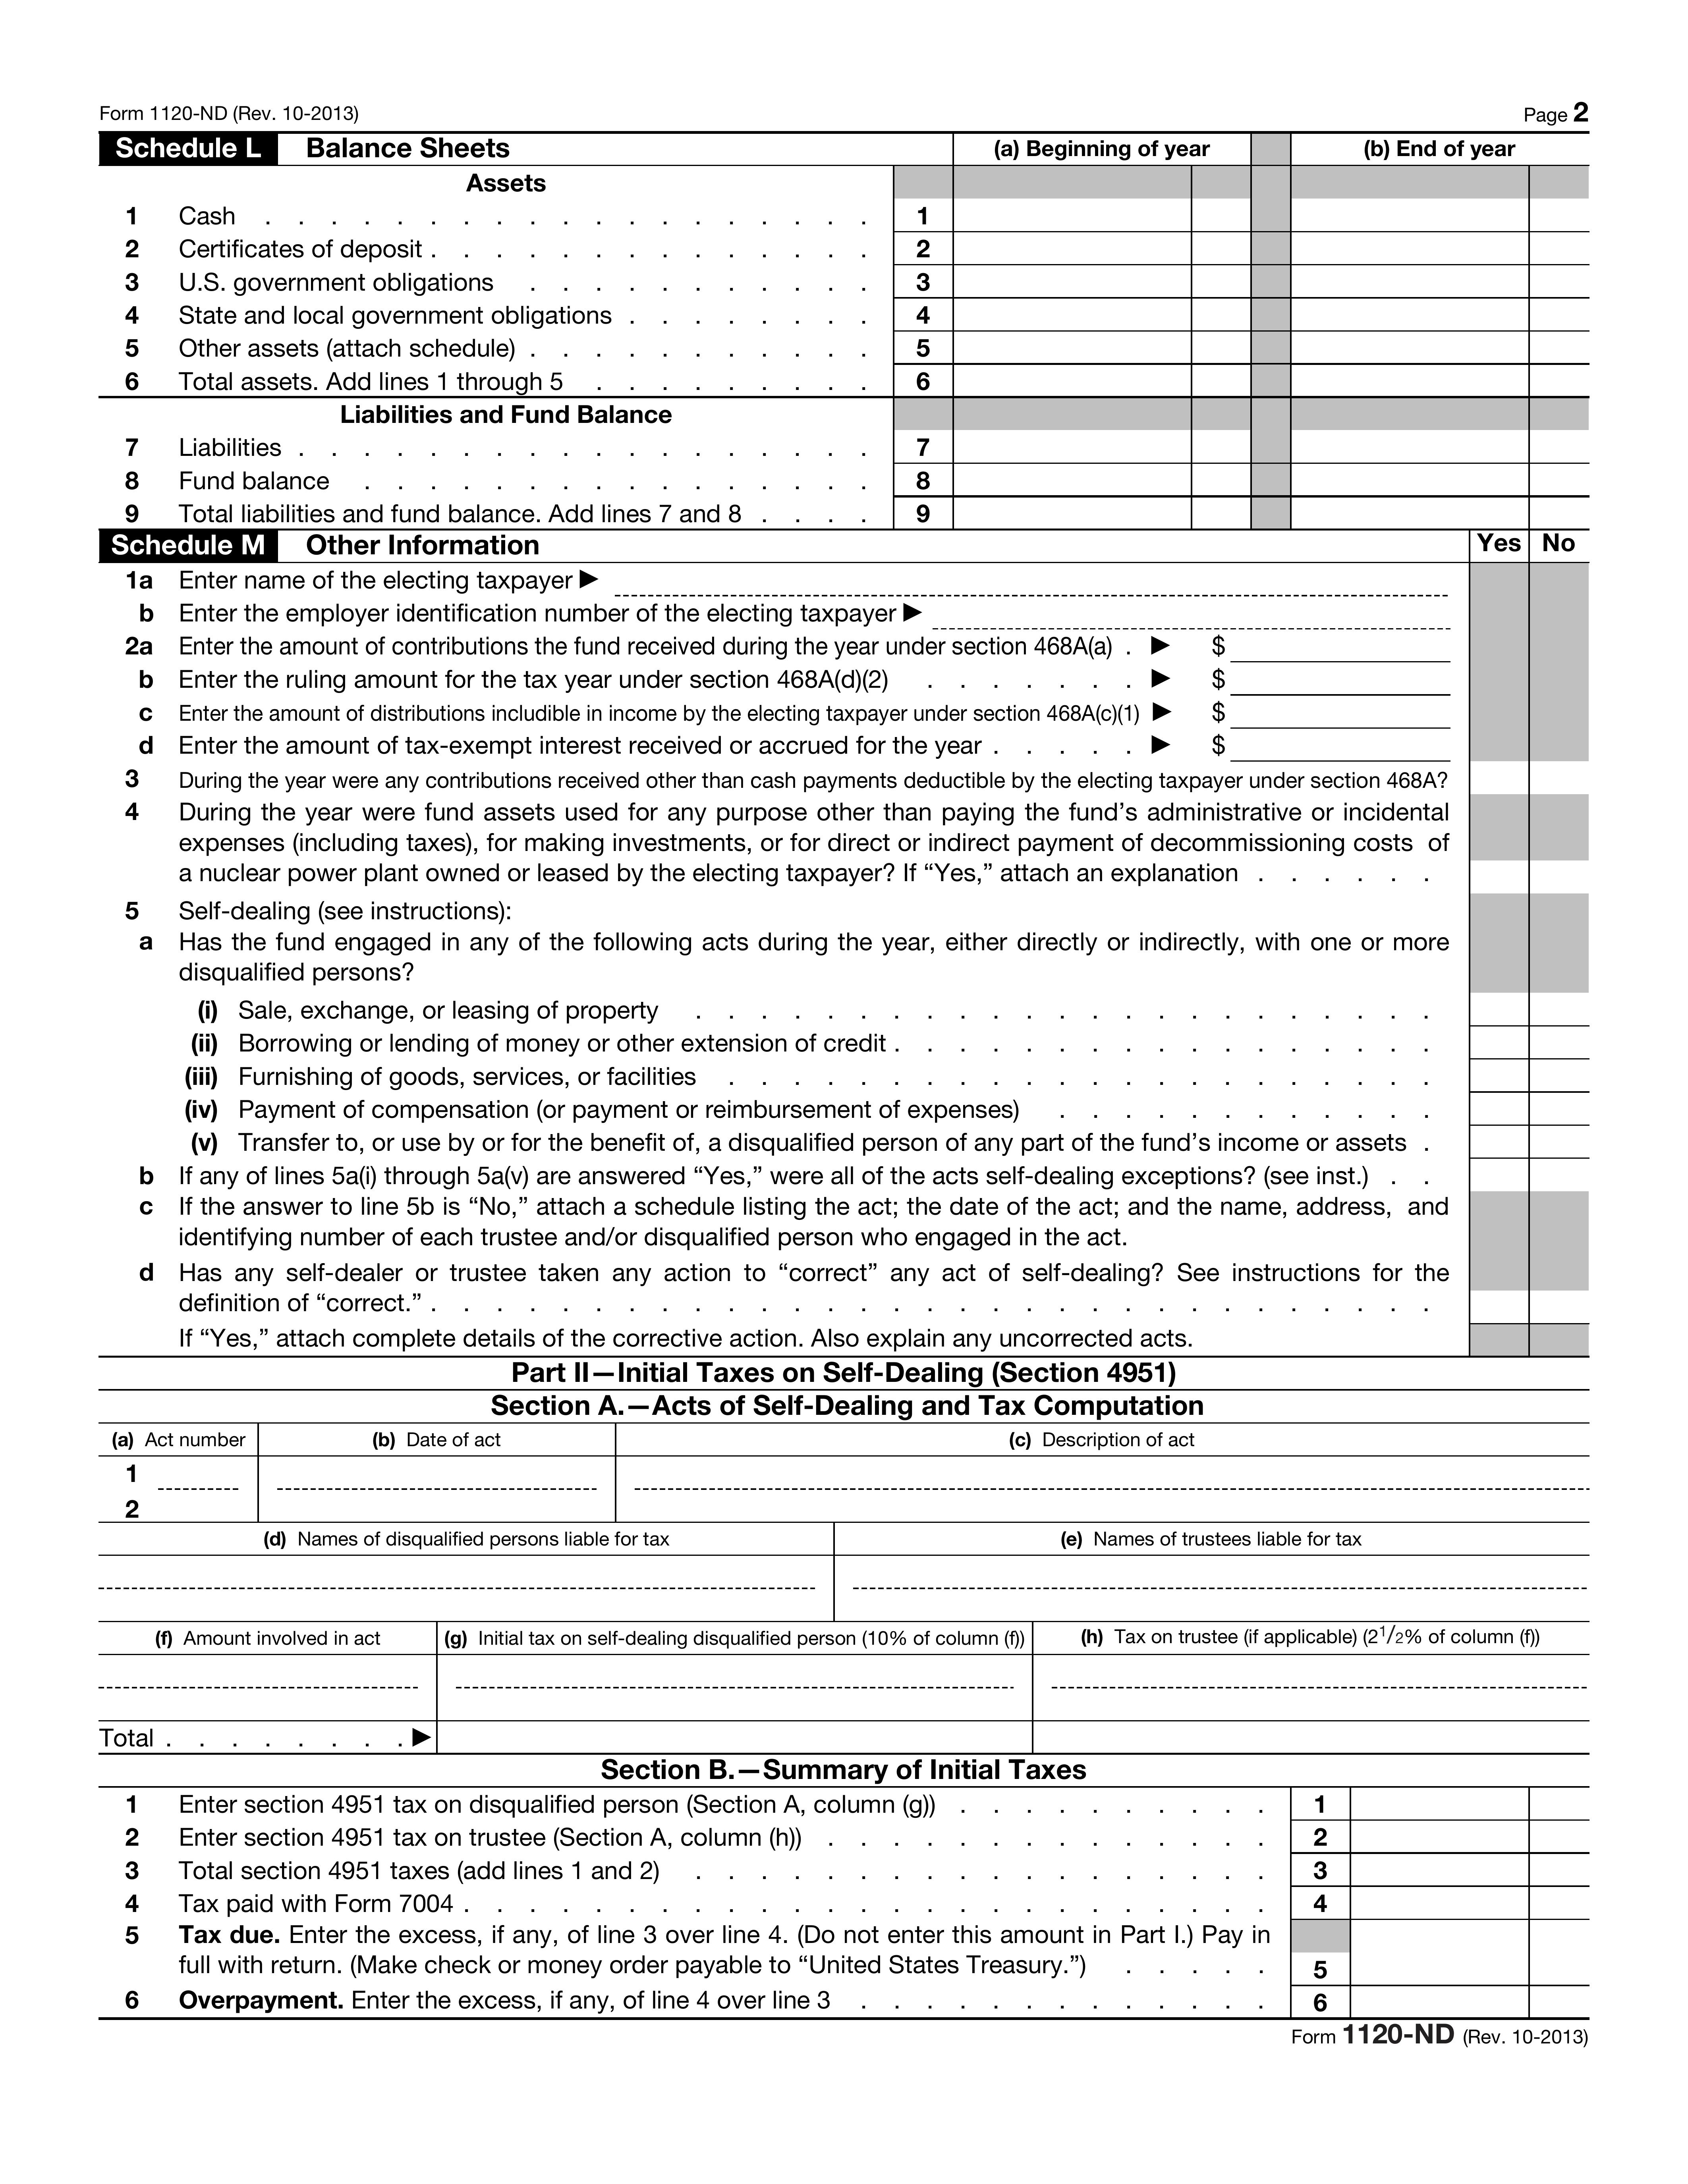form: (90, 1424, 1622, 1755)
table: (98, 525, 1603, 1361), (92, 126, 1592, 526), (83, 1780, 1615, 2026)
